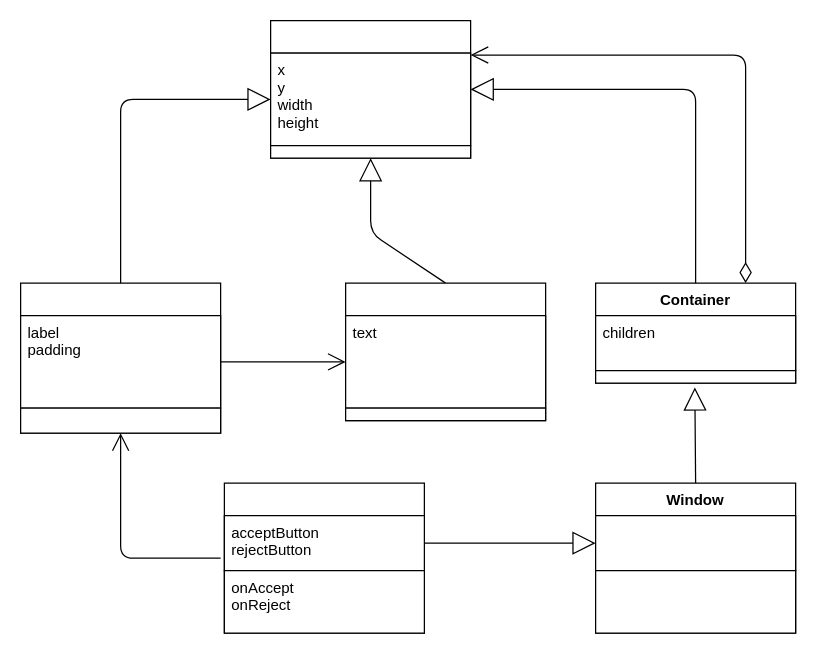
This 816x654 diagram has some shape labels left out. Each missing label, with the box of its shape:
Button: (19, 282, 221, 433)
Component: (269, 19, 471, 158)
Dialog: (223, 482, 424, 633)
Label: (344, 282, 546, 421)
